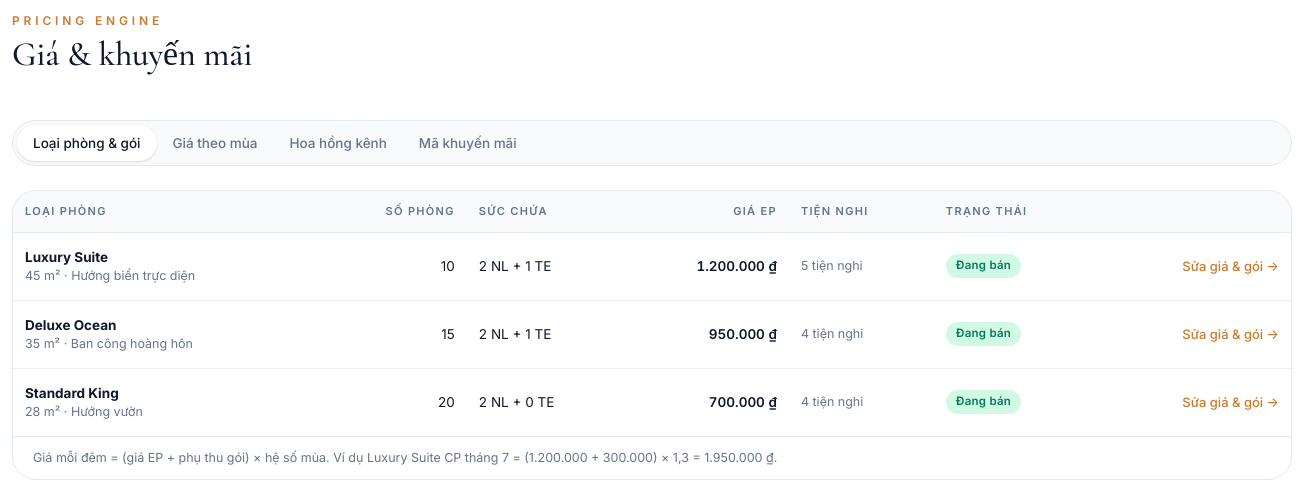
it: Quản trị › pricing: tab mã khuyến mãi liệt kê EARLY15
This screenshot has width=1304, height=497.
Click the tab "Mã khuyến mãi" at (468, 143), box [403,125,533,161]
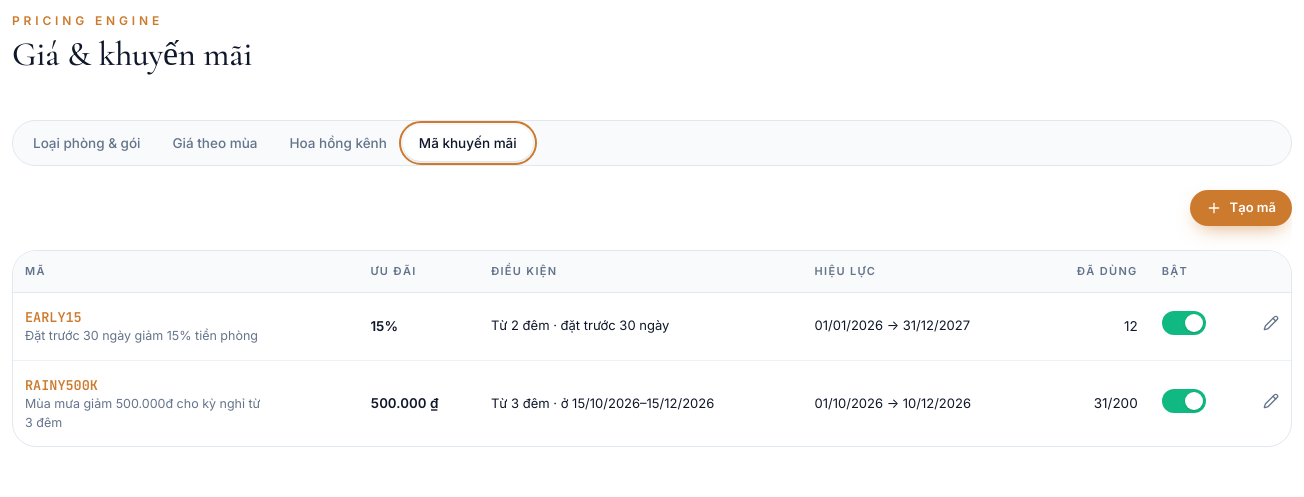
expect the text "EARLY15" is shown: met, box [25,308,82,326]
expect the text "RAINY500K" is shown: met, box [25,376,98,394]
